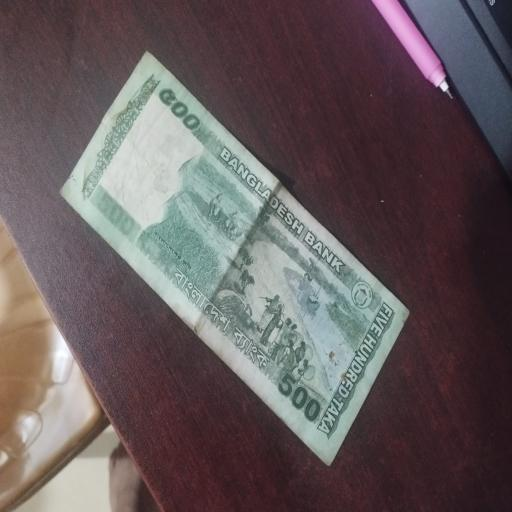500taka: (59, 51, 412, 470)
